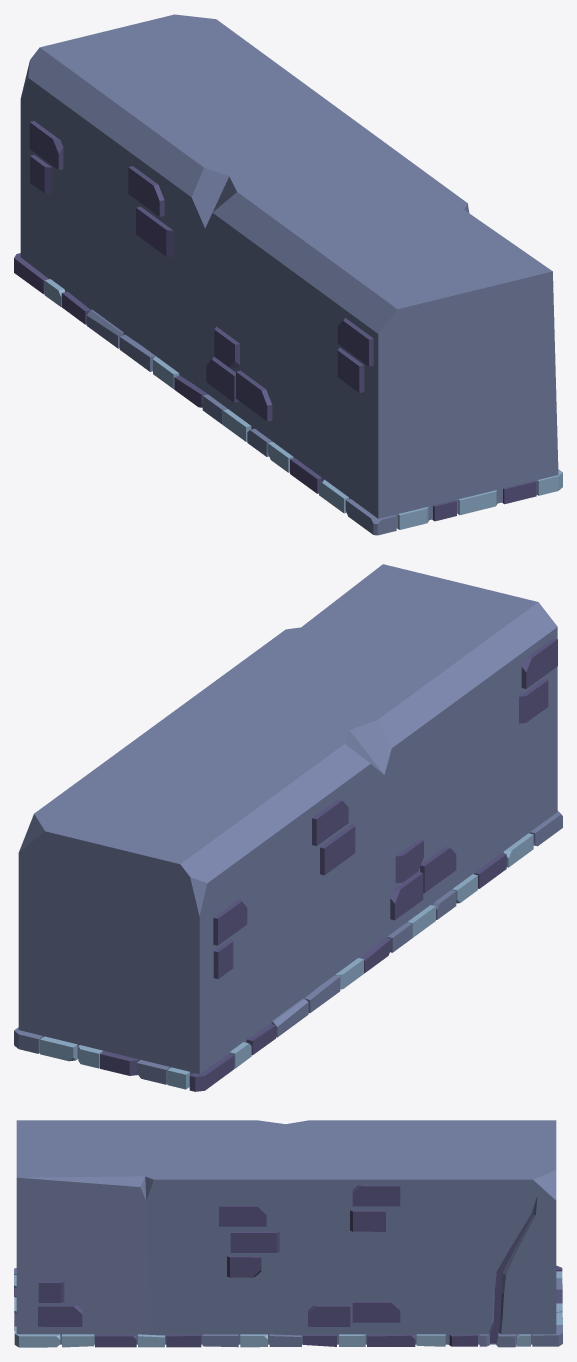
Rendered from Wall_Gate_01_Top_01.fbx.
3 renders of one model, top to bottom at view 1: azimuth 30°, elevation 25°; view 2: azimuth 150°, elevation 25°; view 3: azimuth 270°, elevation 25°, orthographic. The views are drawn at different scales.
Visible parts, largest first — view 1: Wall_Gate_01_Top_01; view 2: Wall_Gate_01_Top_01; view 3: Wall_Gate_01_Top_01.
Part boxes in pixels (box(x1,y1,x2,y2)): Wall_Gate_01_Top_01: box(14, 14, 562, 535); Wall_Gate_01_Top_01: box(14, 564, 562, 1091); Wall_Gate_01_Top_01: box(14, 1120, 562, 1347).
Size of the model in its own units: 496 by 542 by 1626.
